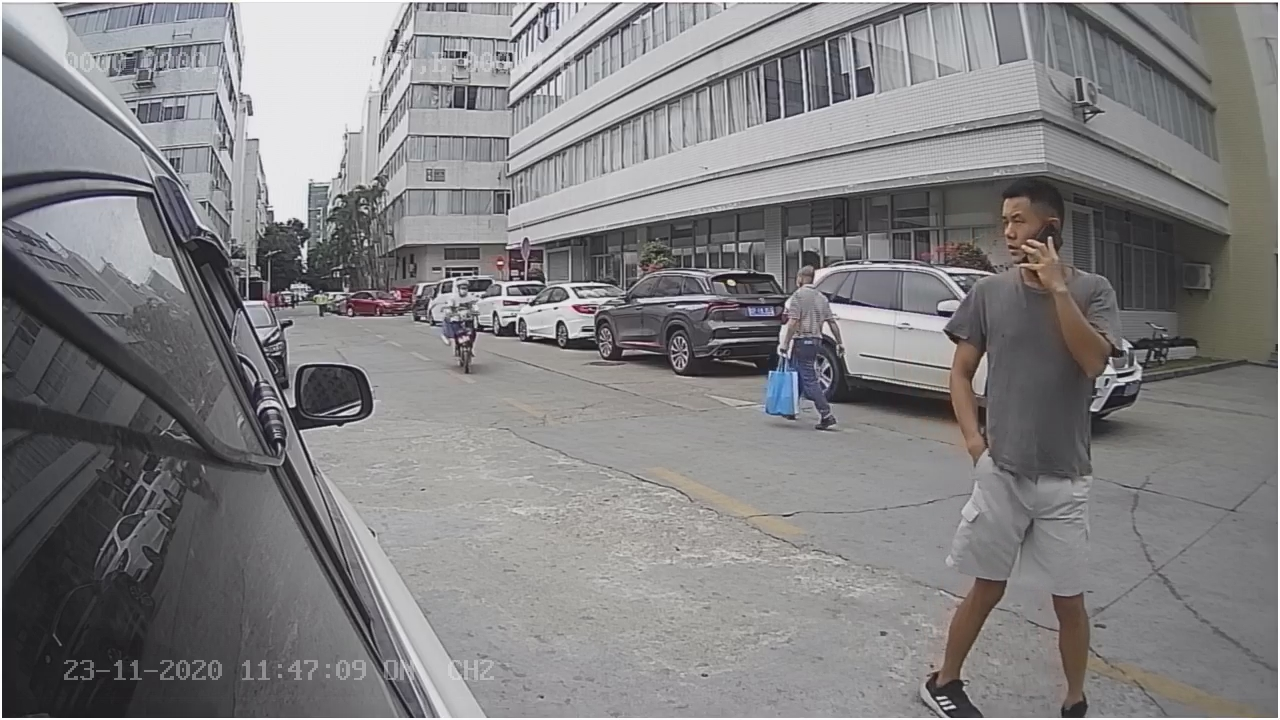person: (917, 172, 1123, 720), (769, 264, 847, 429)
